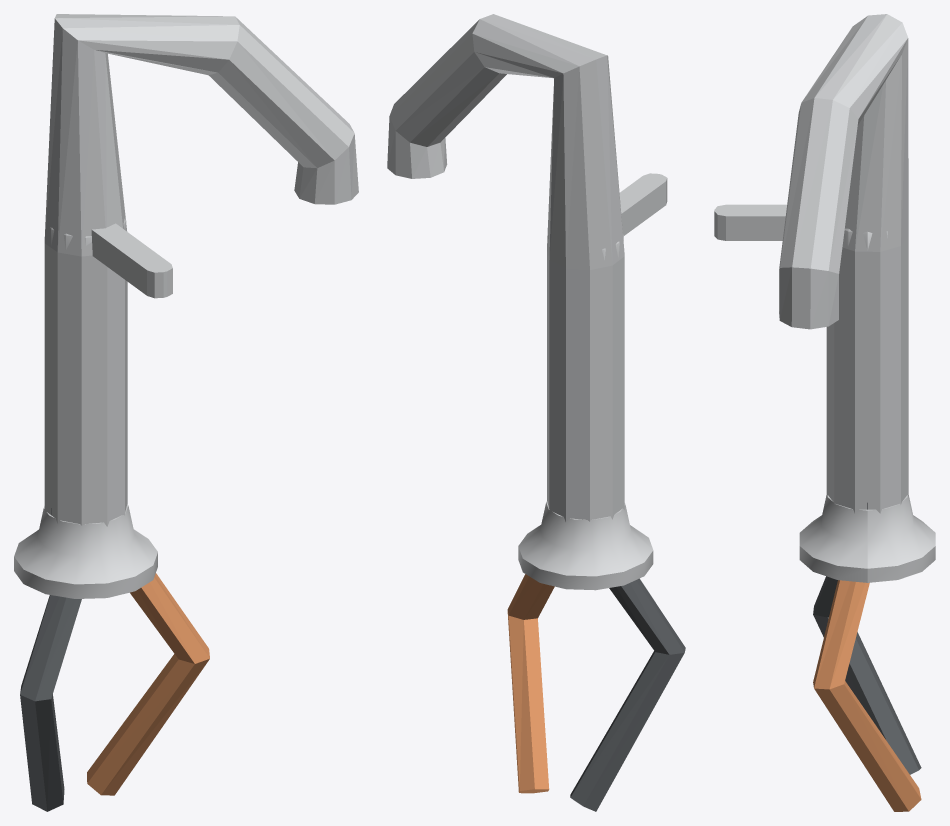
File: home-appliances-and-utility-tap-mixer-single-lever-ede5586c__14118.glb
3 views of the same model, side by side, from view 1: azimuth 30°, elevation 25°; view 2: azimuth 150°, elevation 25°; view 3: azimuth 270°, elevation 25° (orthographic). The views are drawn at different scales.
Parts seen in each view (by area): view 1: tap-mixer-single-lever; view 2: tap-mixer-single-lever; view 3: tap-mixer-single-lever.
Part boxes in pixels (x1,y1,x2,y2): tap-mixer-single-lever: [14, 14, 358, 811]; tap-mixer-single-lever: [387, 14, 685, 811]; tap-mixer-single-lever: [714, 14, 935, 811].
Size of the model in its own units: 0.185 by 0.4339 by 0.1133.
